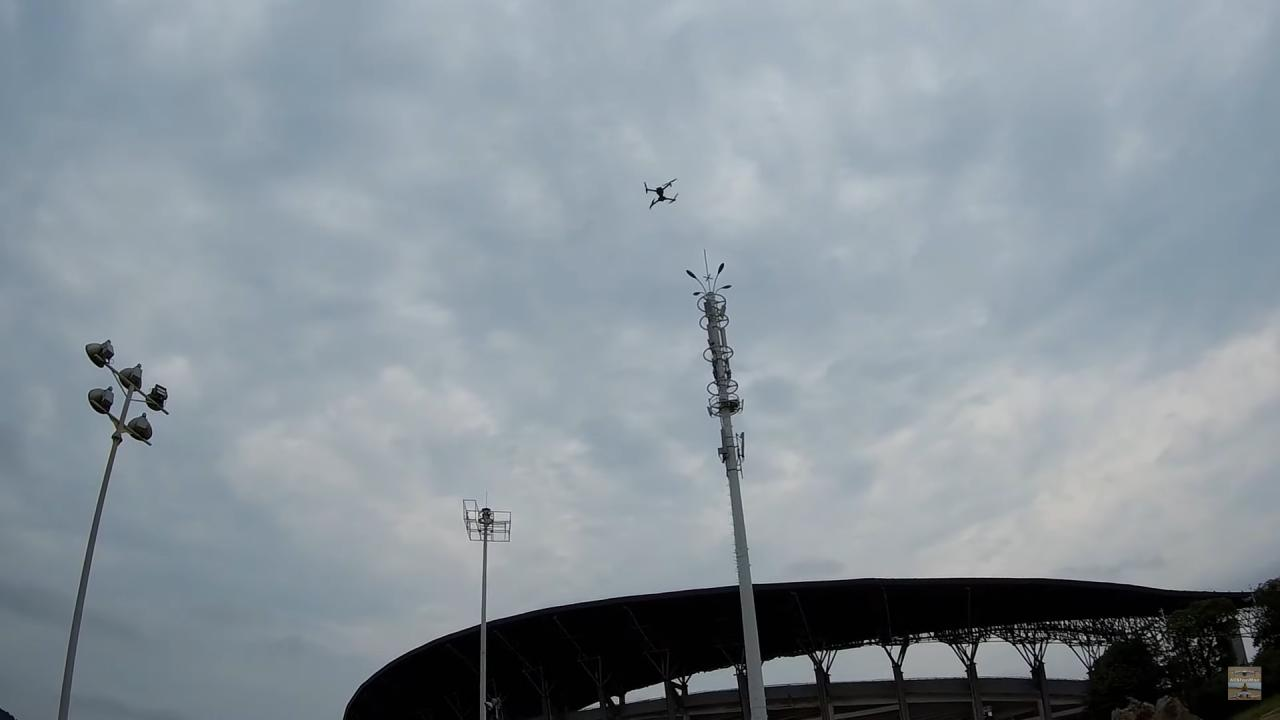Drone: (636, 172, 690, 216)
